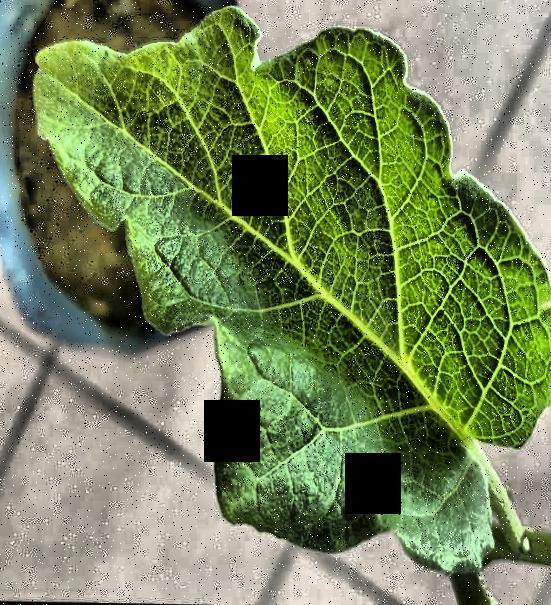HEALTHY: (0, 1, 551, 605)
